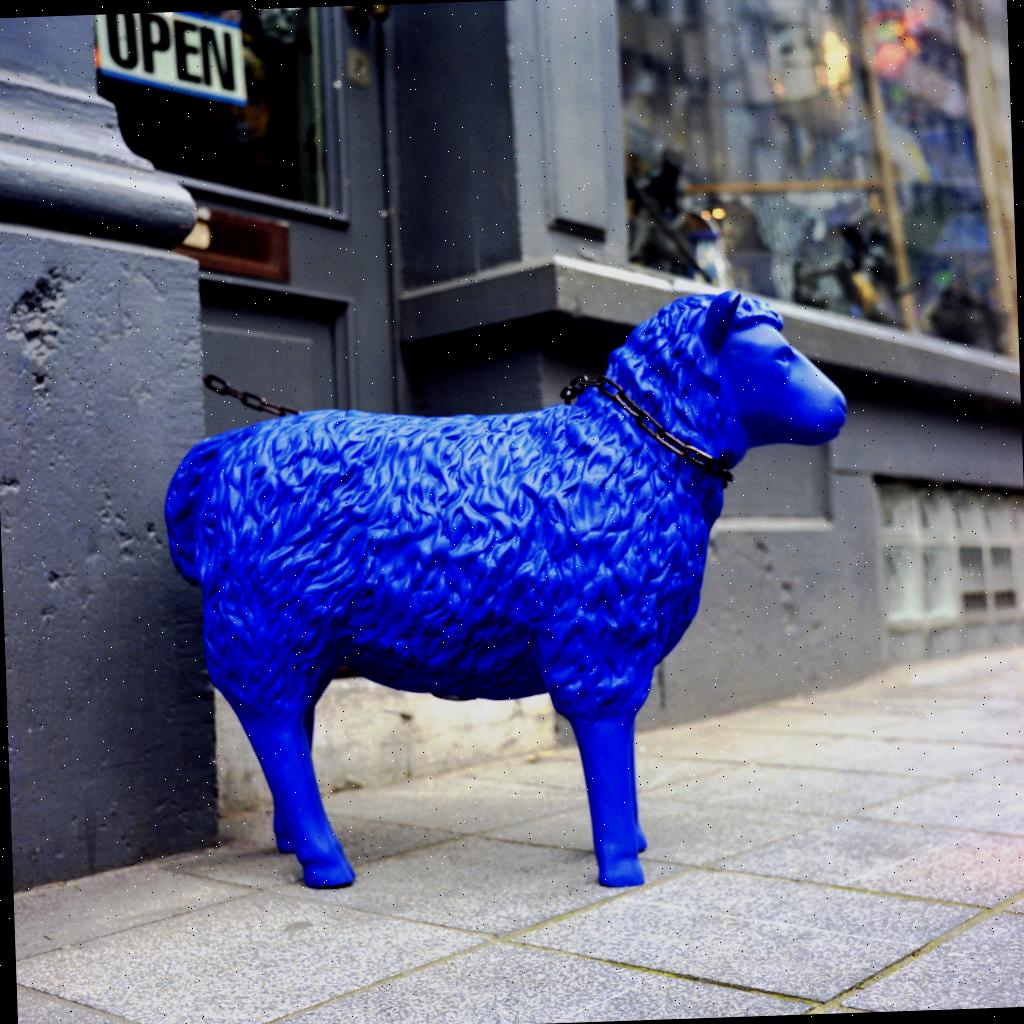Sheep: (152, 276, 874, 904)
